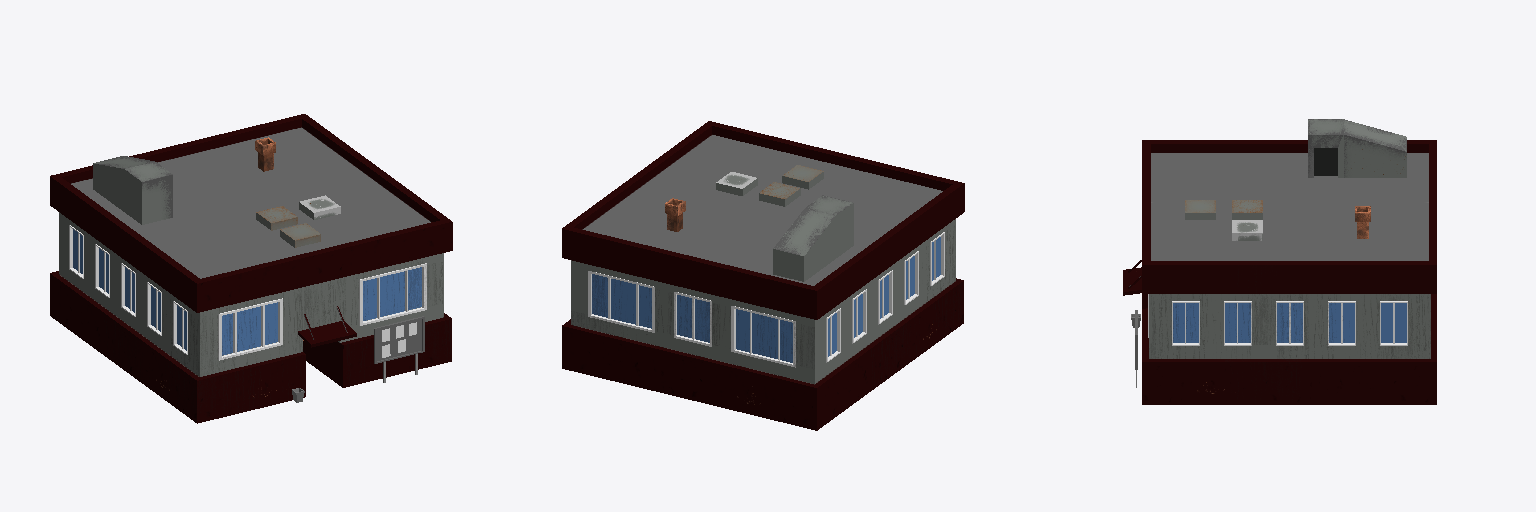
3 views of the same model, side by side, from view 1: azimuth 30°, elevation 25°; view 2: azimuth 150°, elevation 25°; view 3: azimuth 270°, elevation 25° (orthographic).
Parts seen in each view (by area): view 1: Hostel_lvl1_Cube.007, Cube.014_Cube.010, Cube.016_Cube.012, Cube.013_Cube.009, Cube.003_Cube.002, Cube, Cube.015_Cube.011; view 2: Hostel_lvl1_Cube.007, Cube.014_Cube.010, Cube.016_Cube.012, Cube.013_Cube.009, Cube.015_Cube.011; view 3: Hostel_lvl1_Cube.007, Cube.014_Cube.010, Cube.013_Cube.009, Cube.016_Cube.012.
Part boxes in pixels (x1,y1,x2,y2): Hostel_lvl1_Cube.007: (50,114,452,423); Cube.014_Cube.010: (93,156,172,224); Cube.016_Cube.012: (69,225,426,360); Cube.013_Cube.009: (256,195,340,247); Cube.003_Cube.002: (374,316,424,382); Cube: (298,306,356,347); Cube.015_Cube.011: (255,137,275,171); Hostel_lvl1_Cube.007: (562,121,964,430); Cube.014_Cube.010: (773,195,853,281); Cube.016_Cube.012: (588,232,944,367); Cube.013_Cube.009: (716,165,823,206); Cube.015_Cube.011: (665,198,685,231); Hostel_lvl1_Cube.007: (1142,140,1436,404); Cube.014_Cube.010: (1308,119,1406,177); Cube.013_Cube.009: (1185,200,1262,240); Cube.016_Cube.012: (1148,294,1407,345).
Bounding box in the file's own units: 11.1 × 7.3 × 11.84.
Materials: 6 (1 with a texture image).